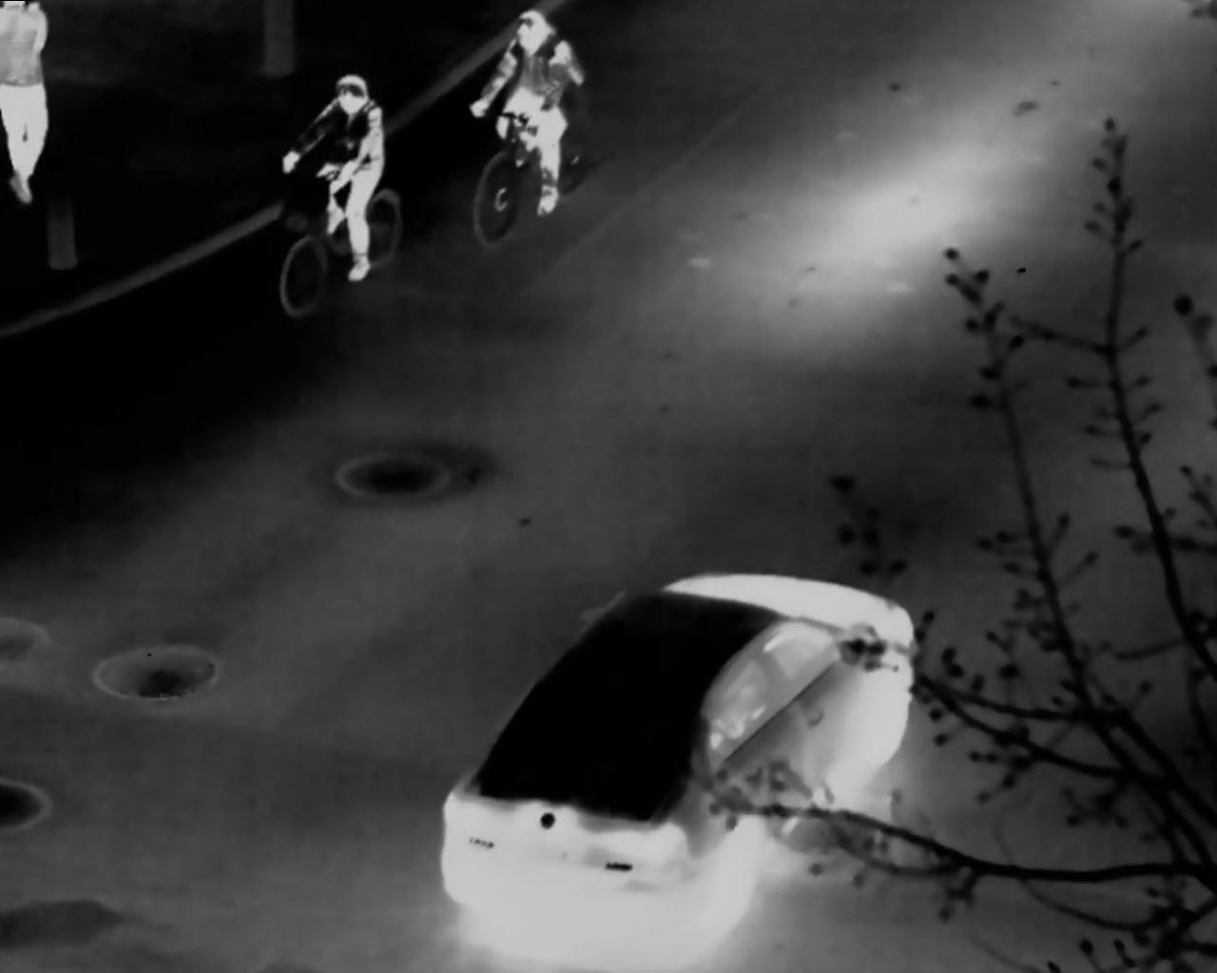person: (468, 10, 585, 217), (280, 72, 385, 283)
